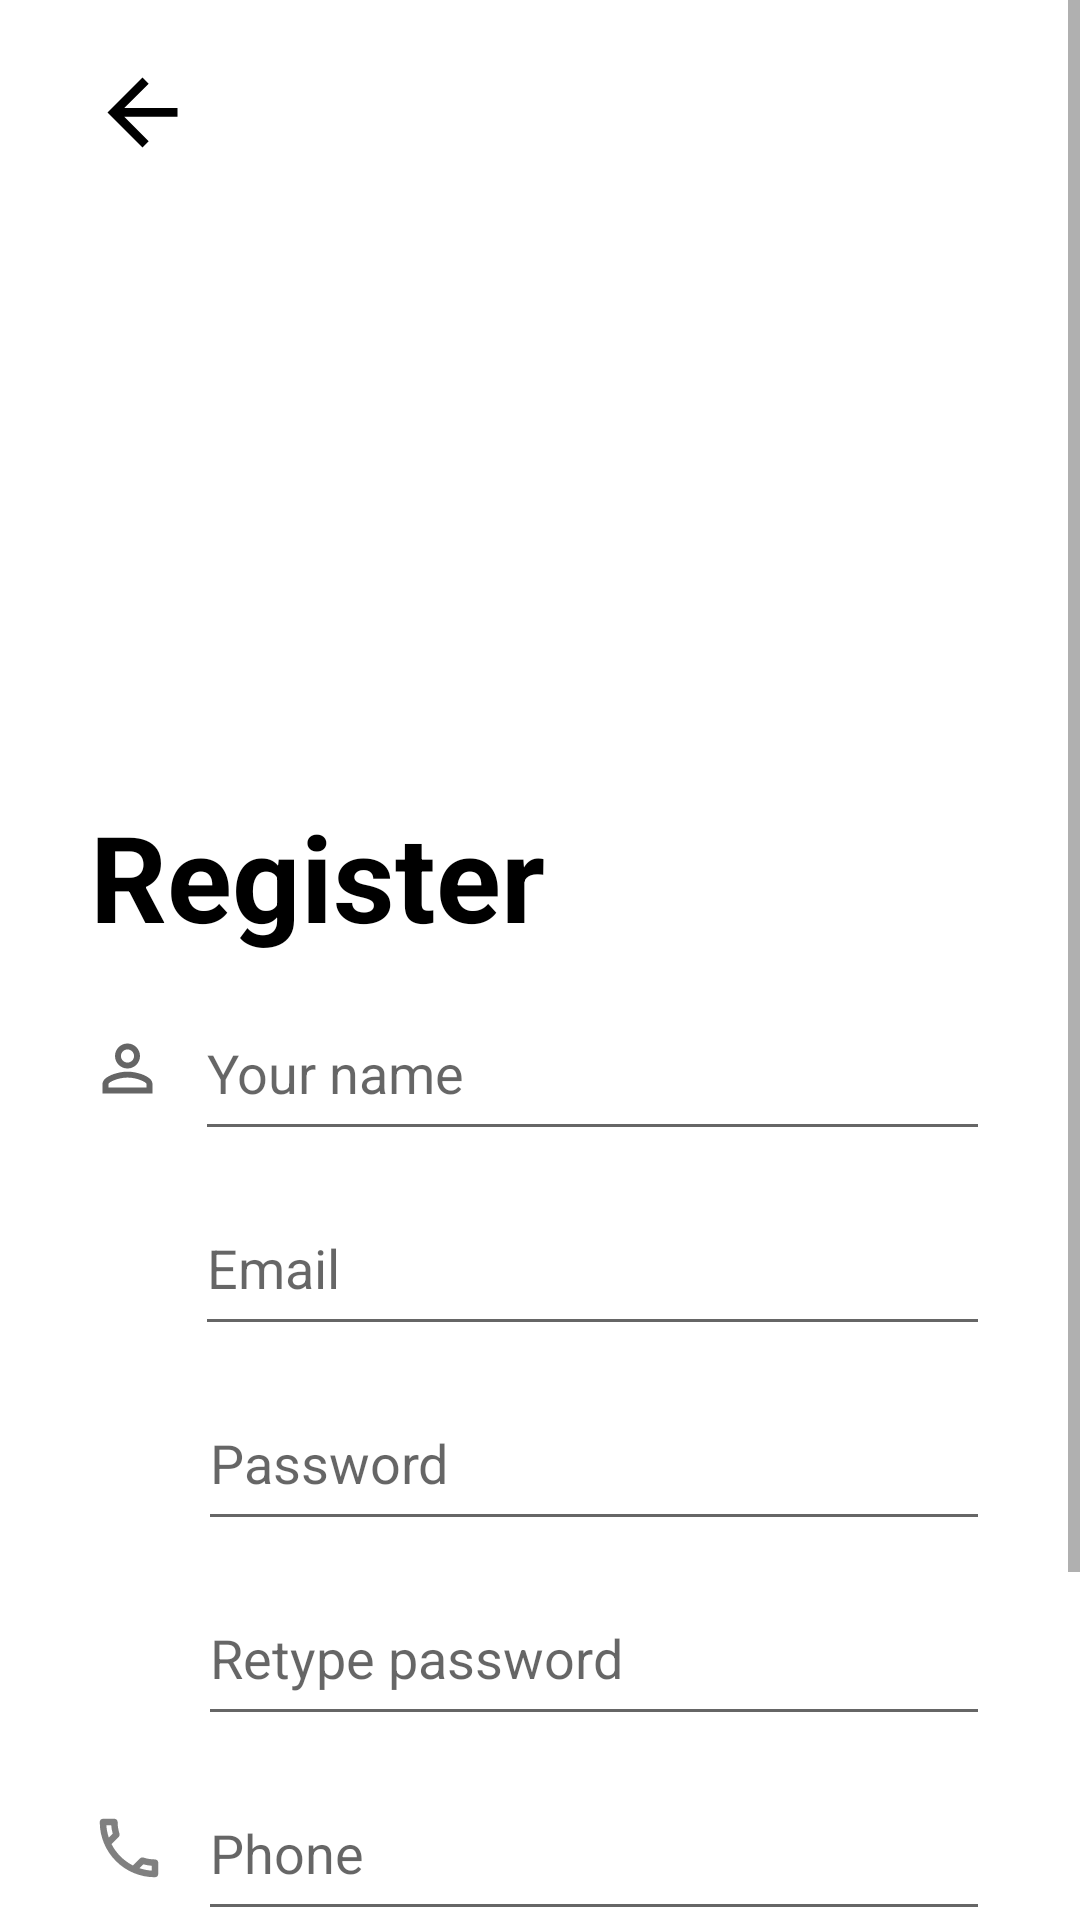

Icons on this 1080px×1920px Android screen, each with its box as bbox=(x1, y1, x2, y2):
person: bbox=(102, 1043, 153, 1094)
